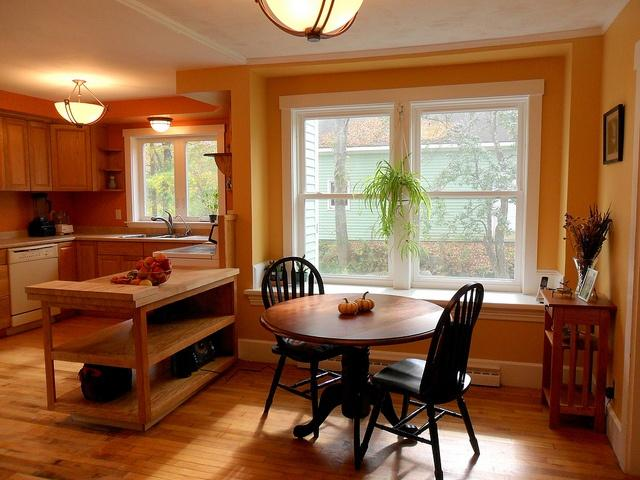Kursi: (359, 280, 483, 479), (259, 255, 343, 438)
Lemari: (0, 111, 100, 193)
Meja: (260, 292, 453, 359)
